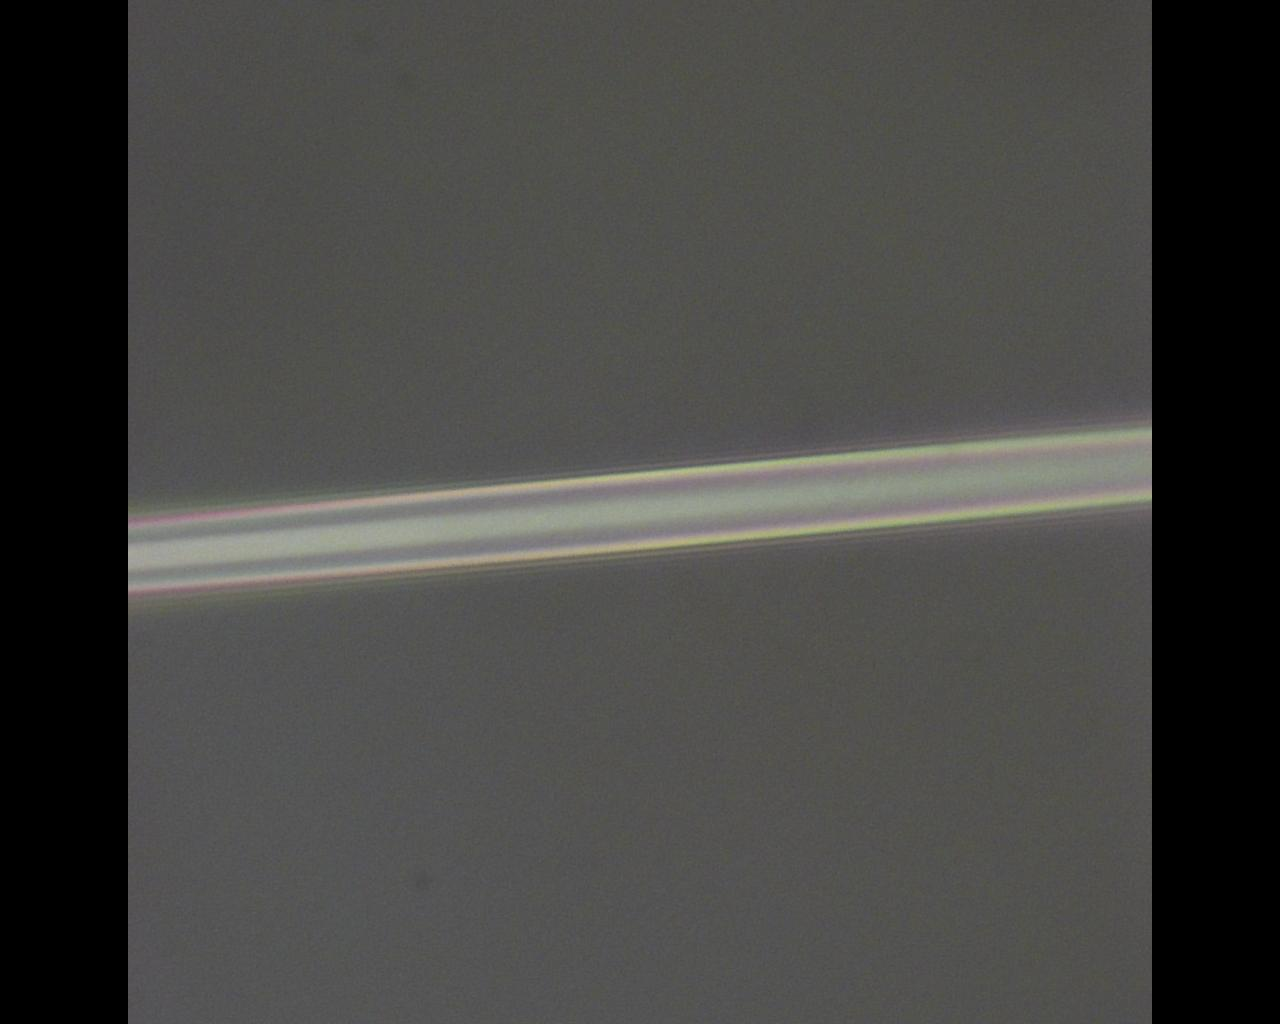fiber: (128, 426, 1152, 600)
